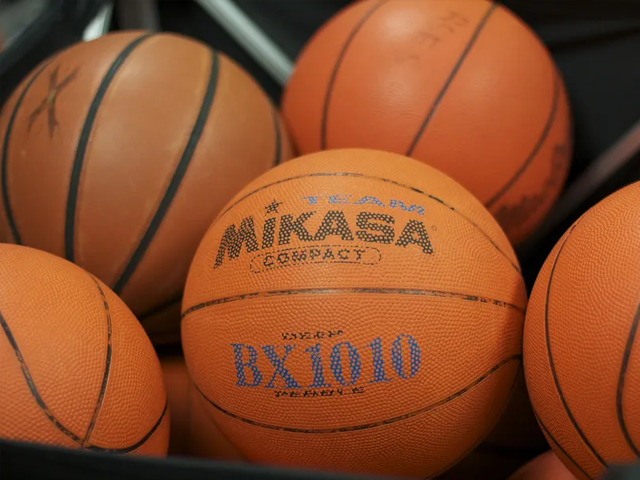Bola: (4, 2, 638, 480)
